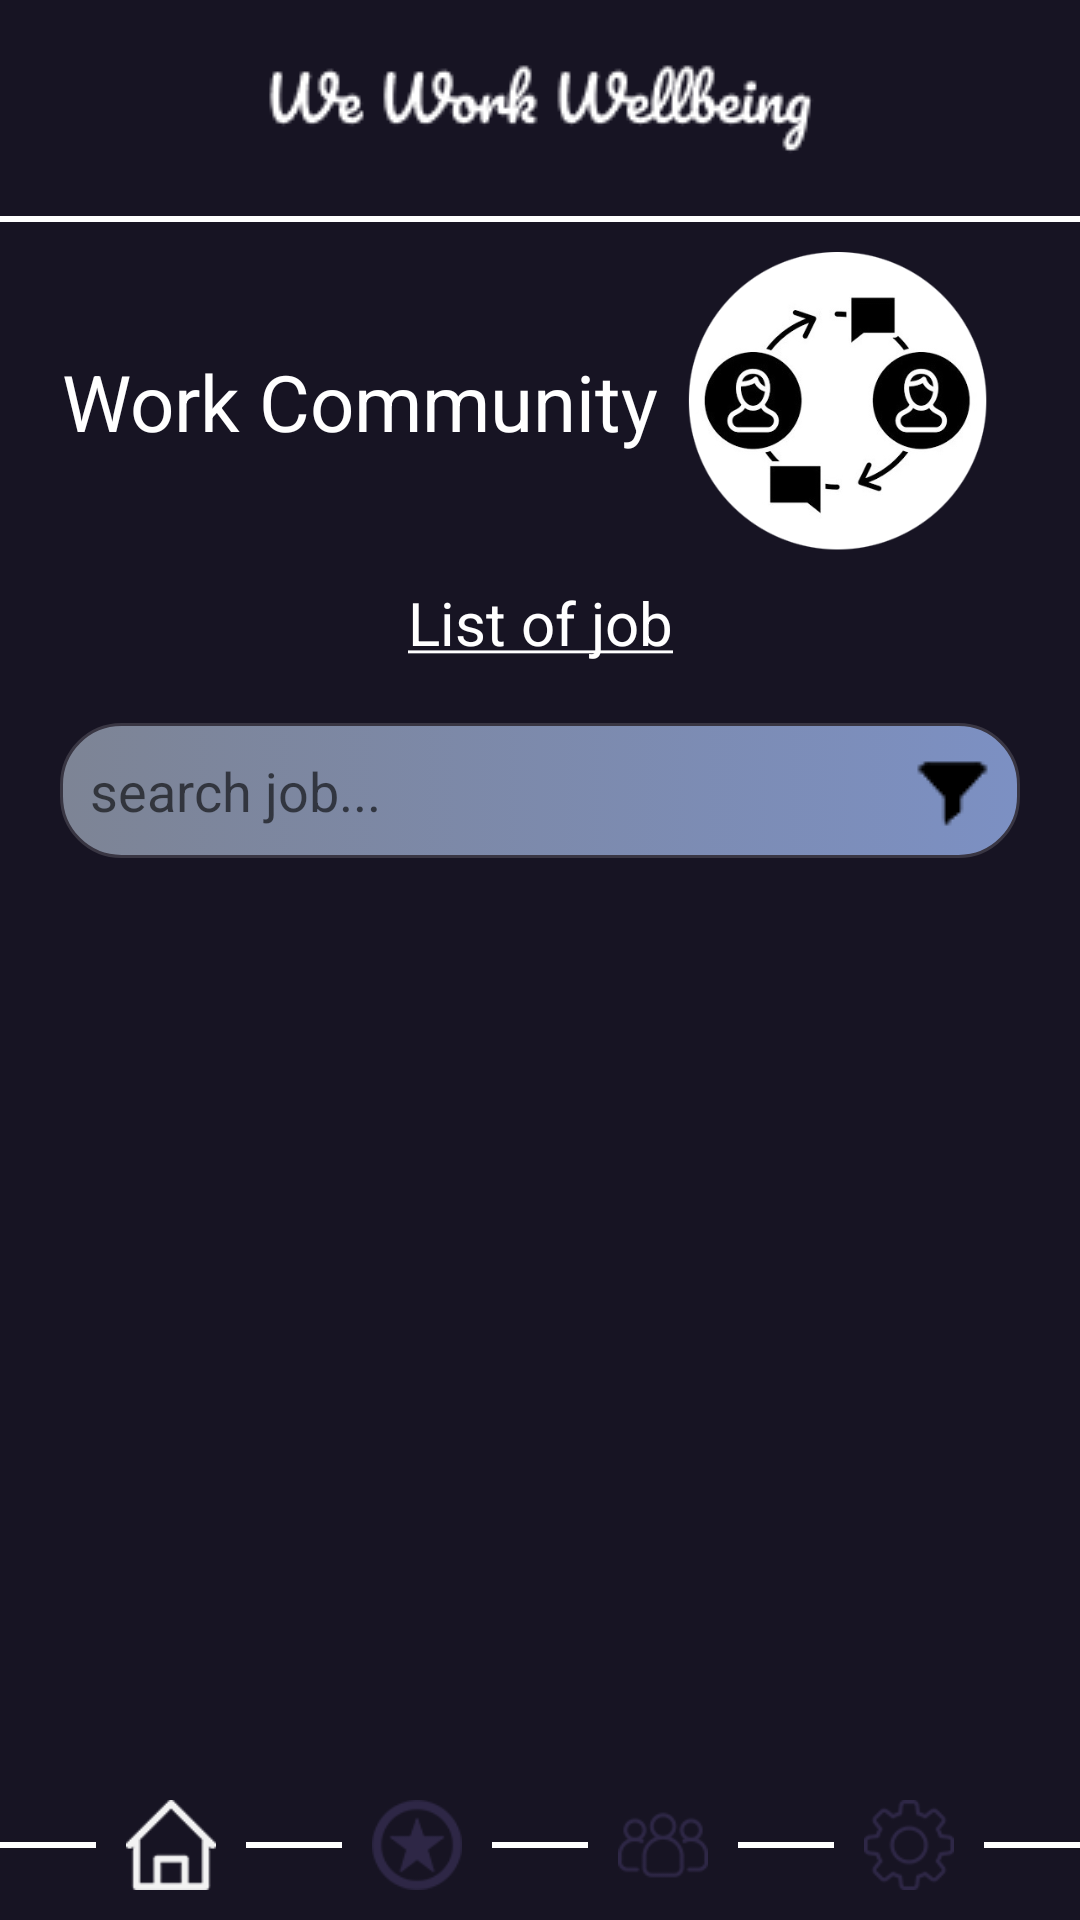

Named icons in this screenshot (1080 x 1920) and their centers, (x=x, y=y):
home: (x=171, y=1845)
settings: (x=909, y=1845)
star: (x=417, y=1845)
team: (x=663, y=1845)
